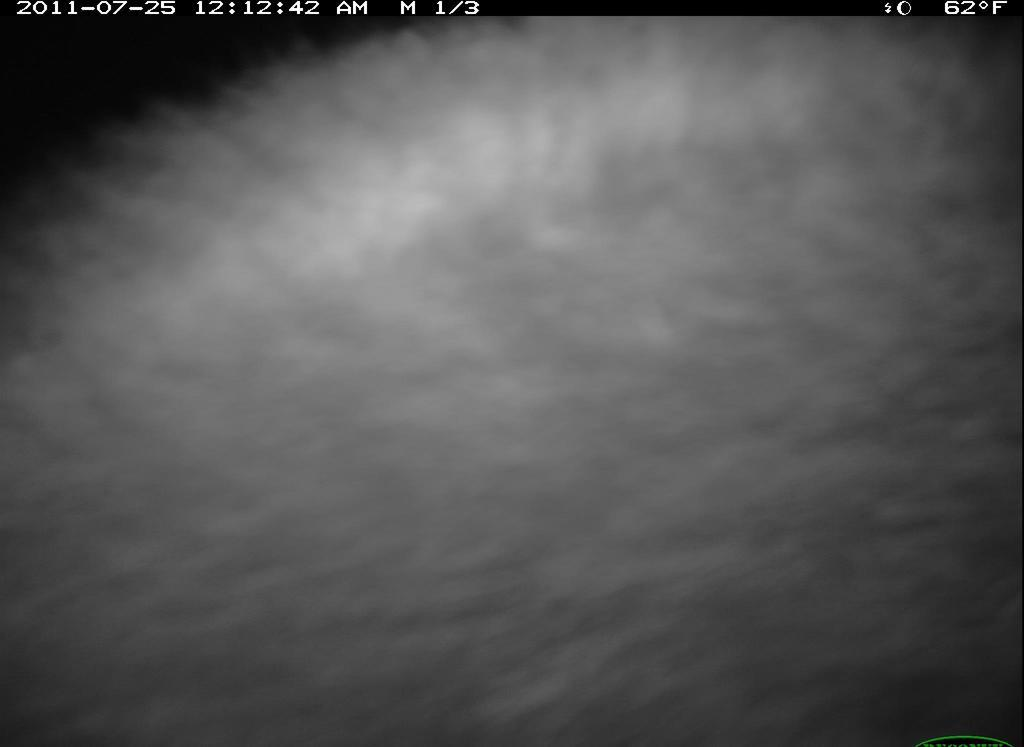raccoon: (13, 16, 1023, 735)
